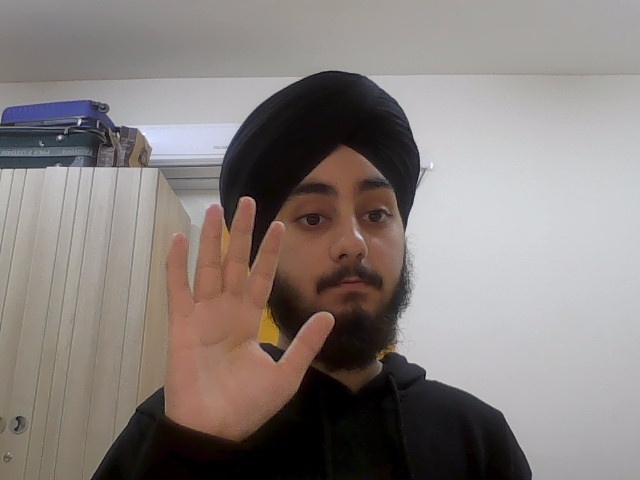Hello: (161, 194, 336, 434)
